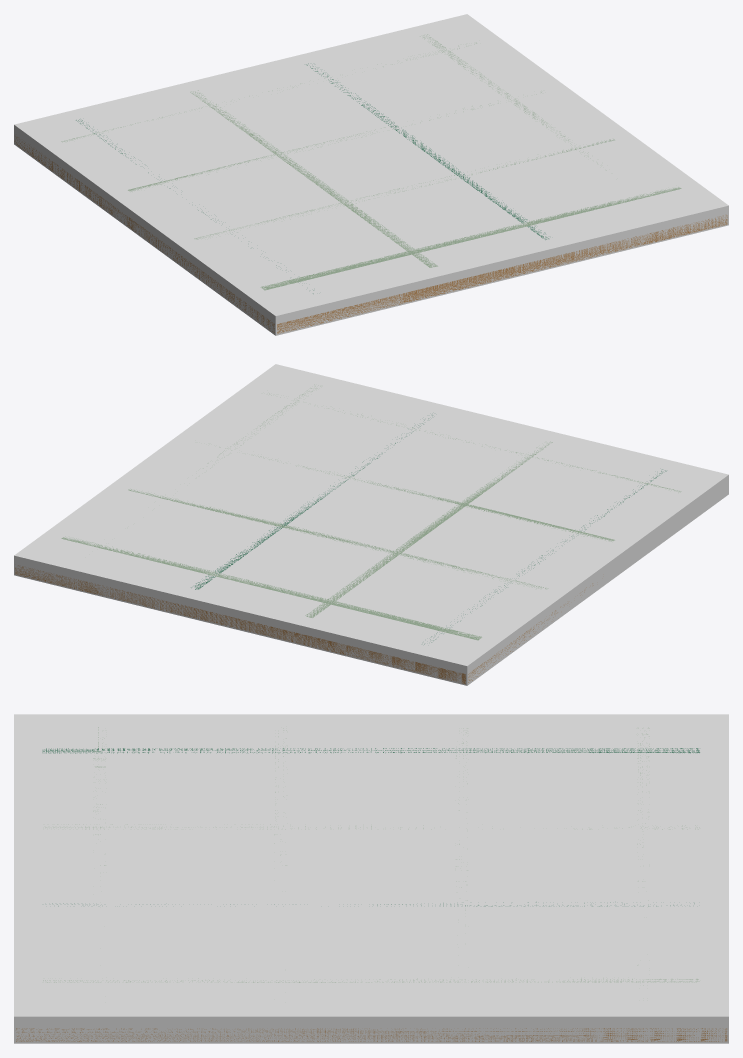
The model's file is ceiling-treatment_retail.glb.
3 renders of one model, top to bottom at view 1: azimuth 30°, elevation 25°; view 2: azimuth 150°, elevation 25°; view 3: azimuth 270°, elevation 25°, orthographic. The views are drawn at different scales.
Parts seen in each view (by area): view 1: COL_ceiling-treatment, MESH_FinishBase, MESH_CofferJoint, MESH_FinishJoint.001, MESH_FinishJoint.002; view 2: COL_ceiling-treatment, MESH_FinishBase, MESH_CofferJoint.003, MESH_FinishJoint.001, MESH_CofferJoint.002, MESH_CofferJoint.001, MESH_FinishJoint.002; view 3: COL_ceiling-treatment, MESH_FinishBase, MESH_FinishJoint.
Boxes of the visible parts, x1=… form: COL_ceiling-treatment: x1=14, y1=14, x2=728, y2=335; MESH_FinishBase: x1=14, y1=136, x2=727, y2=333; MESH_CofferJoint: x1=260, y1=187, x2=681, y2=290; MESH_FinishJoint.001: x1=190, y1=90, x2=437, y2=267; MESH_FinishJoint.002: x1=306, y1=63, x2=548, y2=239; COL_ceiling-treatment: x1=14, y1=364, x2=728, y2=685; MESH_FinishBase: x1=15, y1=565, x2=593, y2=684; MESH_CofferJoint.003: x1=61, y1=536, x2=481, y2=640; MESH_FinishJoint.001: x1=305, y1=441, x2=552, y2=617; MESH_CofferJoint.002: x1=128, y1=489, x2=548, y2=589; MESH_CofferJoint.001: x1=219, y1=447, x2=614, y2=541; MESH_FinishJoint.002: x1=191, y1=415, x2=432, y2=589; COL_ceiling-treatment: x1=14, y1=714, x2=728, y2=1043; MESH_FinishBase: x1=16, y1=1028, x2=727, y2=1041; MESH_FinishJoint: x1=42, y1=748, x2=699, y2=753.
Bounding box in the file's own units: 2.4 × 0.1 × 2.4.
